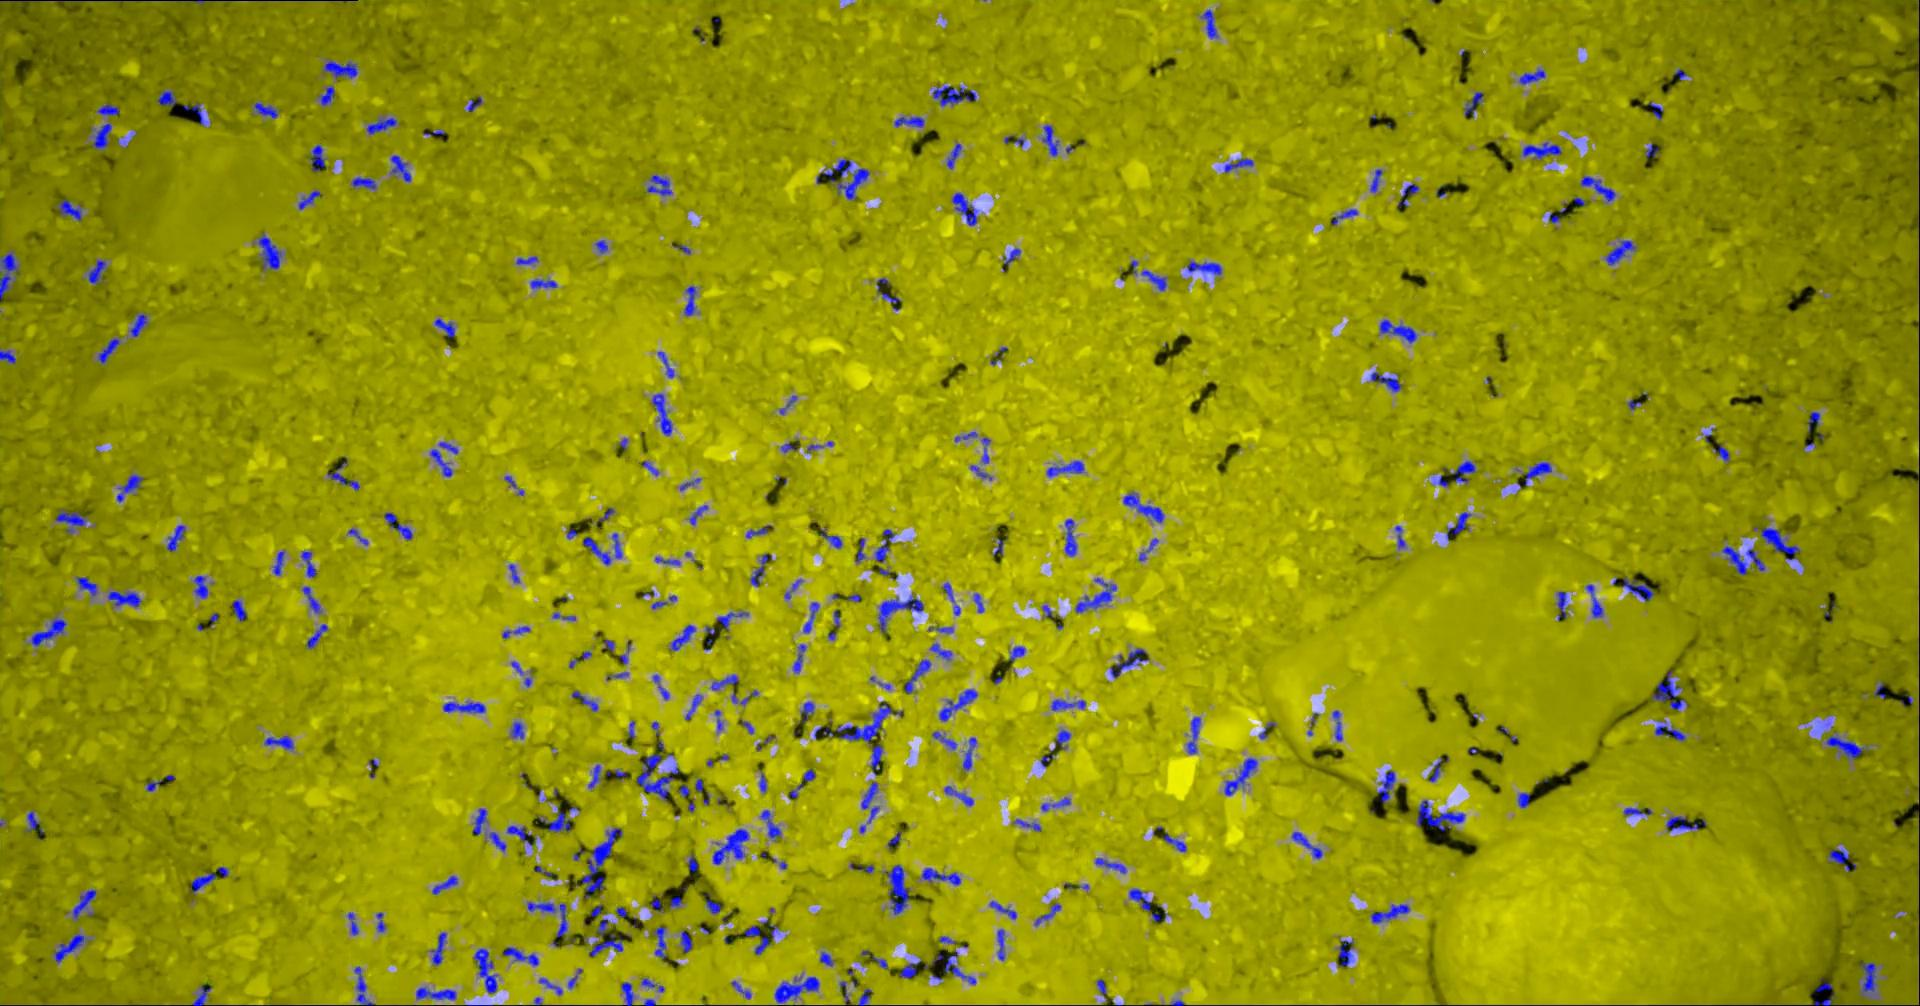ant: (583, 827, 623, 898), (838, 702, 903, 742), (822, 158, 871, 199), (637, 753, 681, 800), (879, 593, 924, 633), (1418, 799, 1465, 831), (1076, 577, 1117, 612), (933, 950, 977, 983), (530, 901, 568, 937), (1653, 669, 1689, 709), (776, 976, 822, 1005), (714, 828, 750, 864), (940, 688, 979, 721), (1763, 526, 1801, 559), (1225, 757, 1258, 795), (886, 864, 910, 915), (1125, 492, 1164, 522), (1112, 647, 1149, 677), (475, 948, 499, 993), (329, 456, 361, 489), (1, 251, 22, 301), (33, 619, 69, 647), (1829, 734, 1865, 760), (56, 934, 89, 962), (1582, 175, 1617, 202), (905, 659, 932, 694), (1519, 461, 1553, 486), (584, 536, 613, 565), (935, 85, 977, 105), (653, 392, 673, 434), (1293, 831, 1324, 857), (260, 232, 283, 269), (1382, 319, 1418, 342), (952, 192, 978, 225), (756, 920, 780, 954), (385, 512, 414, 540), (862, 781, 881, 823), (590, 934, 625, 956), (541, 807, 571, 832), (356, 967, 376, 1005), (1371, 904, 1411, 923), (118, 474, 145, 502), (1723, 545, 1749, 574), (1158, 826, 1187, 851), (56, 509, 88, 532), (791, 768, 817, 796), (1608, 240, 1637, 264), (1448, 511, 1472, 540), (1624, 577, 1655, 600), (74, 889, 97, 920), (752, 554, 773, 586), (672, 624, 697, 650), (430, 448, 455, 476), (876, 528, 897, 561), (923, 868, 963, 884), (1830, 848, 1858, 871), (504, 948, 540, 965), (717, 611, 750, 630), (1371, 371, 1402, 391), (325, 60, 359, 77), (1379, 768, 1397, 803), (1048, 460, 1084, 476), (1656, 721, 1688, 741), (1524, 142, 1563, 158), (946, 785, 975, 805), (762, 810, 782, 840), (99, 337, 121, 363), (573, 690, 599, 711), (1667, 815, 1708, 829), (109, 591, 143, 607), (1043, 124, 1060, 156), (648, 174, 673, 196), (307, 622, 329, 648), (1036, 903, 1062, 925), (1587, 584, 1604, 617), (93, 122, 113, 149), (1189, 716, 1203, 754), (990, 901, 1018, 920), (432, 932, 448, 964), (1130, 888, 1154, 909), (392, 154, 411, 180), (1142, 271, 1168, 290), (303, 586, 323, 612), (508, 826, 535, 845), (190, 873, 217, 892), (804, 602, 820, 633), (1454, 460, 1477, 481), (444, 701, 488, 713), (58, 199, 83, 220), (1065, 518, 1078, 556), (168, 525, 187, 550), (1431, 756, 1450, 781), (1096, 857, 1128, 873), (433, 875, 458, 894), (1203, 9, 1219, 38), (368, 117, 397, 133), (1862, 962, 1878, 991), (1189, 260, 1223, 274), (185, 102, 206, 124), (1399, 183, 1420, 206), (822, 527, 844, 547), (417, 987, 457, 998), (311, 144, 328, 171), (964, 737, 978, 770), (1465, 91, 1484, 116), (659, 351, 676, 377), (300, 191, 323, 210), (1747, 547, 1766, 570), (935, 730, 957, 749), (89, 259, 107, 283), (131, 312, 149, 337), (540, 977, 564, 995), (684, 285, 698, 315), (1338, 939, 1354, 967), (1333, 208, 1359, 225), (687, 694, 703, 719), (193, 984, 213, 1005), (1140, 539, 1159, 560), (1225, 158, 1255, 171), (265, 735, 295, 749), (1043, 796, 1072, 810), (1004, 248, 1022, 271), (302, 550, 317, 577), (255, 102, 279, 118), (654, 674, 670, 699), (1053, 699, 1087, 710), (794, 644, 808, 672), (712, 674, 740, 688), (436, 318, 456, 337), (77, 575, 98, 594), (932, 641, 952, 661), (28, 810, 44, 833), (474, 808, 488, 835), (1521, 69, 1545, 84), (657, 926, 668, 958), (883, 292, 903, 310), (786, 579, 804, 600), (902, 960, 922, 978), (348, 528, 370, 545), (895, 116, 926, 127), (872, 744, 884, 775), (992, 345, 1010, 365), (691, 506, 709, 525), (504, 625, 531, 638), (733, 981, 752, 998), (949, 144, 963, 168), (490, 831, 507, 851), (706, 893, 723, 913), (232, 600, 248, 621), (705, 625, 717, 650), (196, 575, 210, 598), (622, 982, 636, 1005), (1371, 168, 1384, 192), (1016, 818, 1043, 829), (971, 465, 993, 479), (1558, 591, 1568, 620), (321, 86, 337, 105), (159, 90, 178, 105), (747, 525, 770, 537), (1057, 729, 1072, 748), (643, 978, 665, 991), (803, 701, 817, 721), (353, 177, 377, 188), (274, 551, 286, 575), (590, 763, 602, 788), (98, 103, 119, 116), (1335, 710, 1343, 741), (1396, 525, 1407, 547), (682, 930, 693, 953), (532, 278, 557, 288), (613, 532, 623, 558), (1716, 445, 1731, 461), (1817, 977, 1834, 992), (1650, 102, 1663, 119), (1625, 807, 1653, 815), (349, 912, 361, 934), (439, 441, 458, 453), (998, 929, 1006, 960), (983, 437, 992, 464), (1810, 412, 1821, 432), (1010, 647, 1026, 661), (651, 895, 665, 912), (147, 779, 165, 791), (889, 831, 902, 848), (1816, 993, 1835, 1005), (857, 537, 866, 561), (469, 95, 483, 111), (512, 721, 524, 738), (860, 988, 872, 1005), (596, 239, 610, 253), (1, 351, 17, 363), (510, 563, 521, 582), (975, 593, 985, 612), (822, 951, 834, 967), (1098, 979, 1109, 998), (517, 255, 538, 264), (745, 925, 762, 936), (657, 556, 681, 564), (690, 854, 700, 871), (378, 912, 387, 932), (1519, 793, 1531, 807), (598, 920, 610, 935), (1647, 144, 1660, 156), (670, 895, 684, 907)
